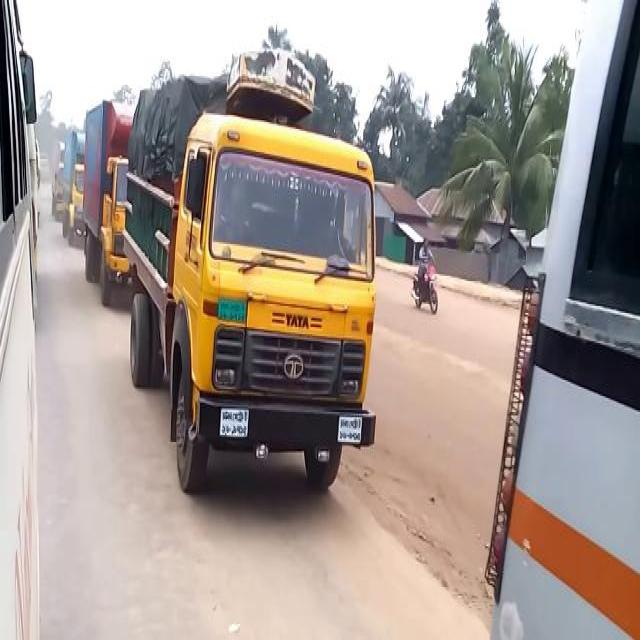bus: (479, 9, 639, 631), (3, 7, 44, 635)
motorbike: (414, 240, 438, 308)
truck: (120, 47, 378, 494), (80, 97, 132, 304), (60, 128, 86, 248)
